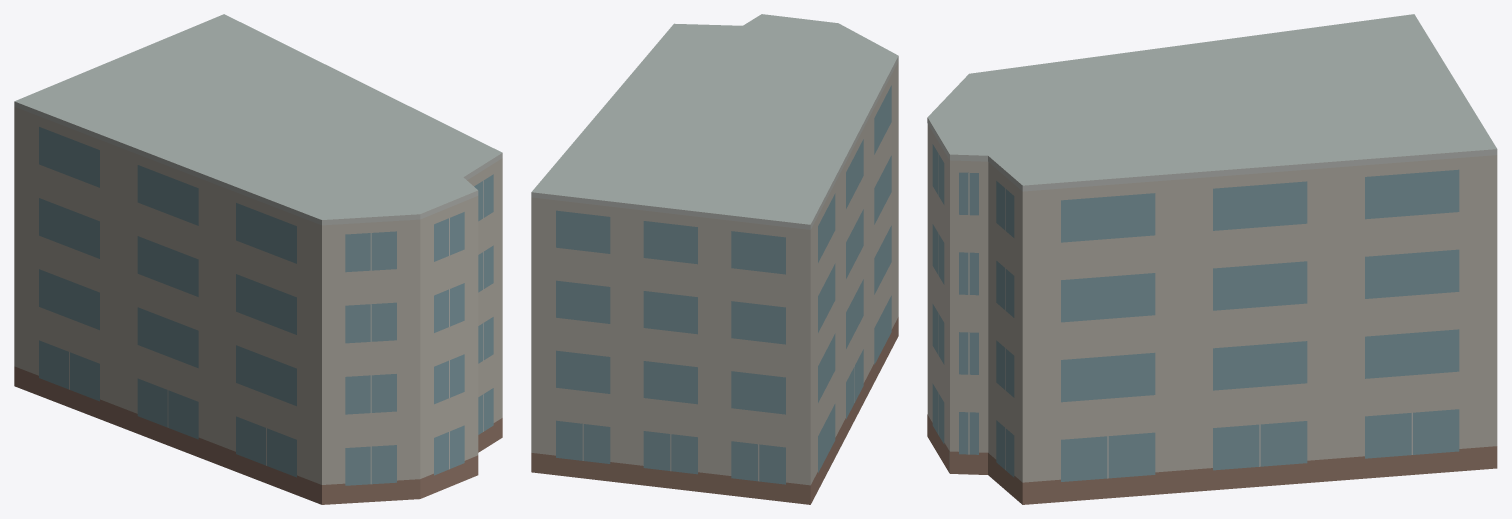
File: survey-upis-32600942.glb
3 views of the same model, side by side, from view 1: azimuth 30°, elevation 25°; view 2: azimuth 150°, elevation 25°; view 3: azimuth 270°, elevation 25° (orthographic). The views are drawn at different scales.
Visible parts, largest first — view 1: survey-upis-32600942.tmp; view 2: survey-upis-32600942.tmp; view 3: survey-upis-32600942.tmp.
Boxes of the visible parts, x1,y1,x2,y2 form: survey-upis-32600942.tmp: (14,14,502,504); survey-upis-32600942.tmp: (531,14,898,504); survey-upis-32600942.tmp: (927,14,1497,504).
Bounding box in the file's own units: 15.11 × 13.1 × 21.2.
